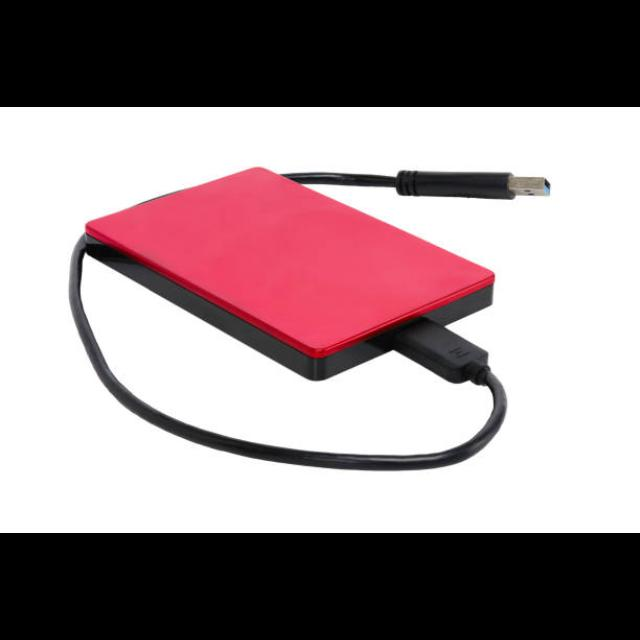HDD: (84, 168, 495, 383)
